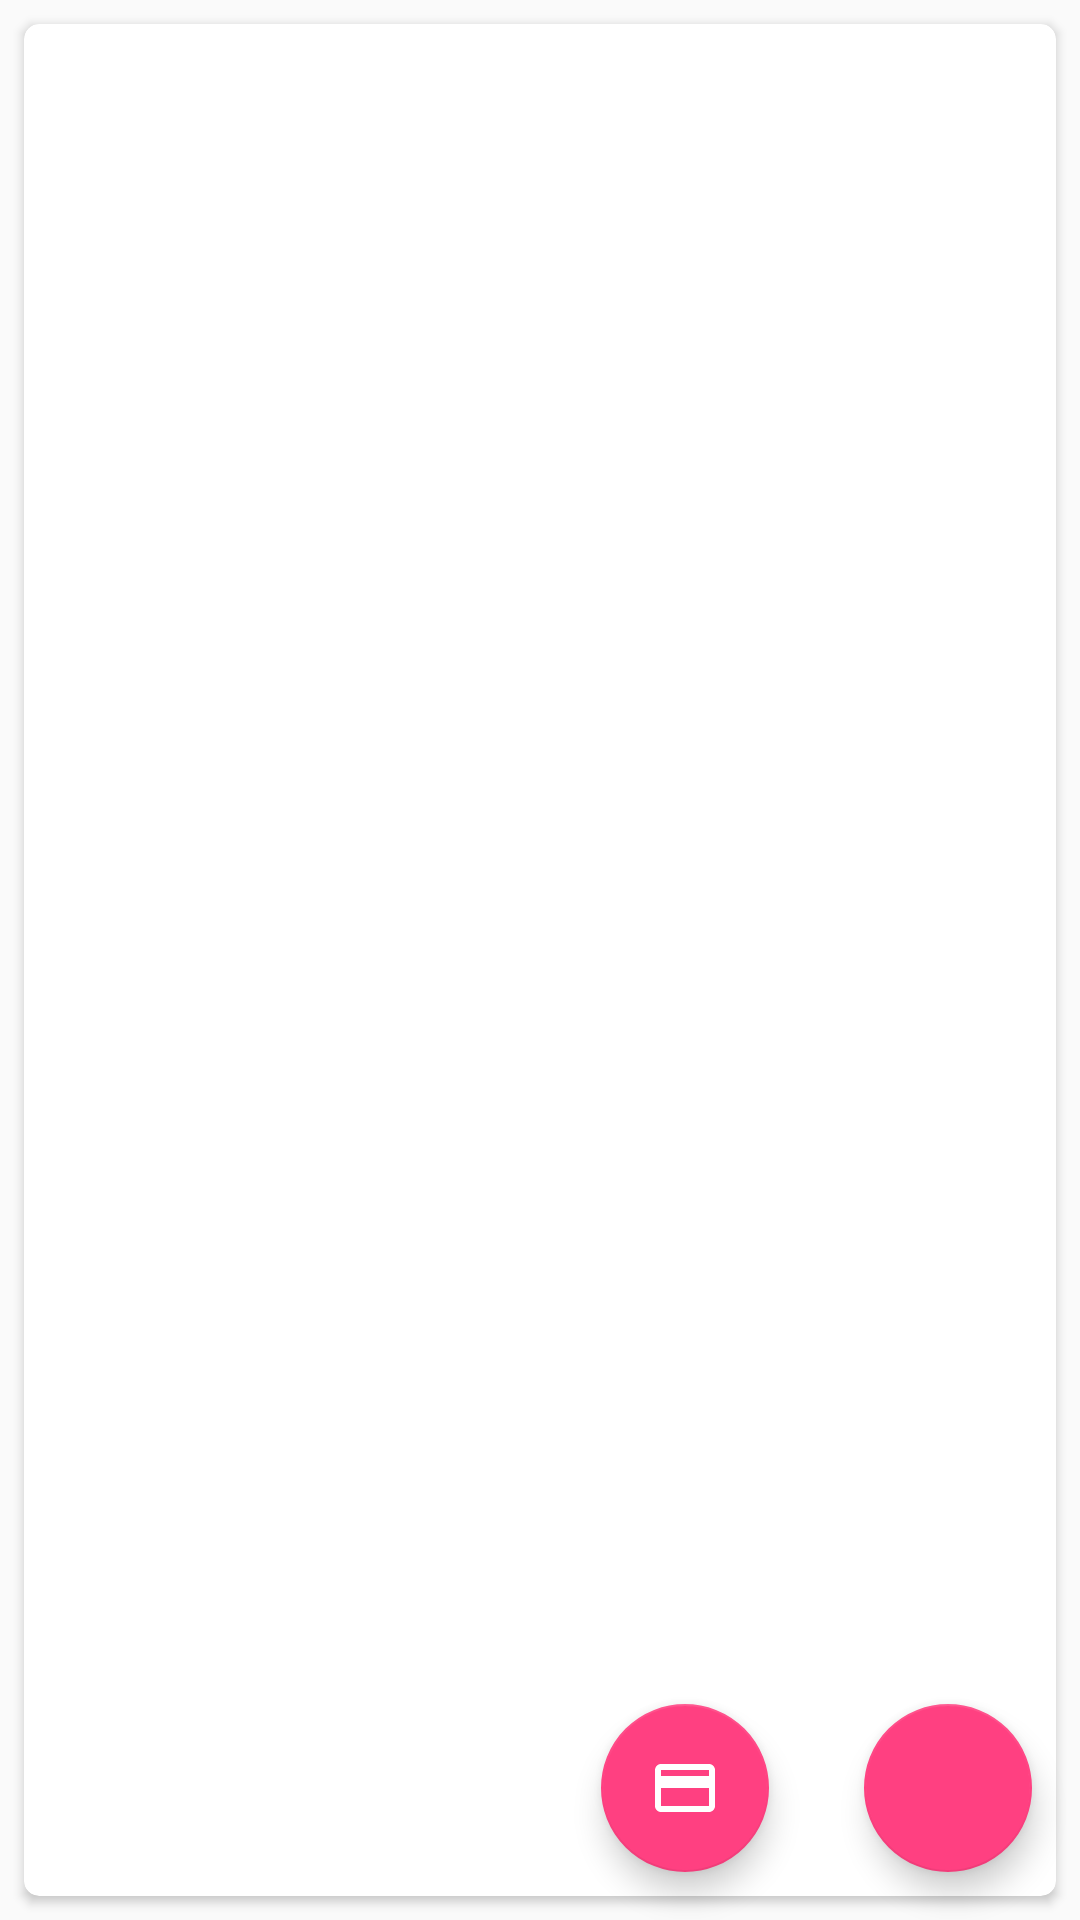

Icons on this 1080*1920 Android screen, each with the point to tap as (x,y):
payment: (685,1788)
